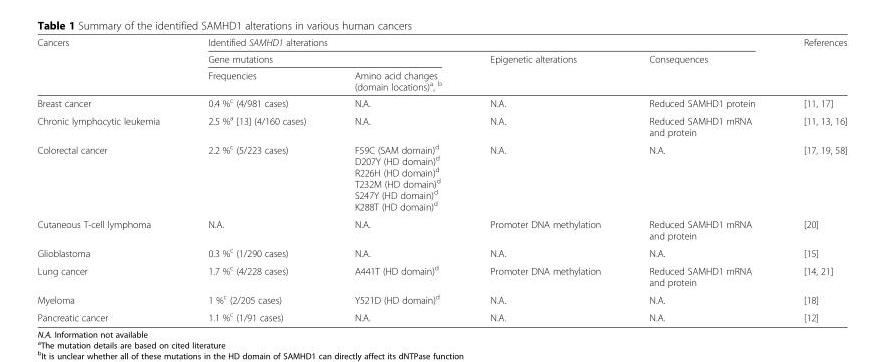table: (36, 36, 846, 322)
table column: (465, 36, 624, 322), (624, 36, 778, 322), (36, 36, 183, 322), (183, 36, 329, 322), (329, 36, 465, 322), (778, 36, 846, 322)
table column header: (36, 36, 846, 93)
table row: (36, 140, 846, 215), (36, 111, 846, 140), (36, 260, 846, 289), (36, 215, 846, 243), (36, 66, 846, 93), (36, 93, 846, 111), (36, 289, 846, 307), (36, 243, 846, 260), (36, 50, 846, 66), (36, 307, 846, 322), (36, 36, 846, 50)
table spanning cell: (36, 36, 183, 93), (183, 36, 778, 50), (465, 50, 624, 93), (624, 50, 778, 93), (183, 50, 465, 66), (778, 36, 846, 93)
